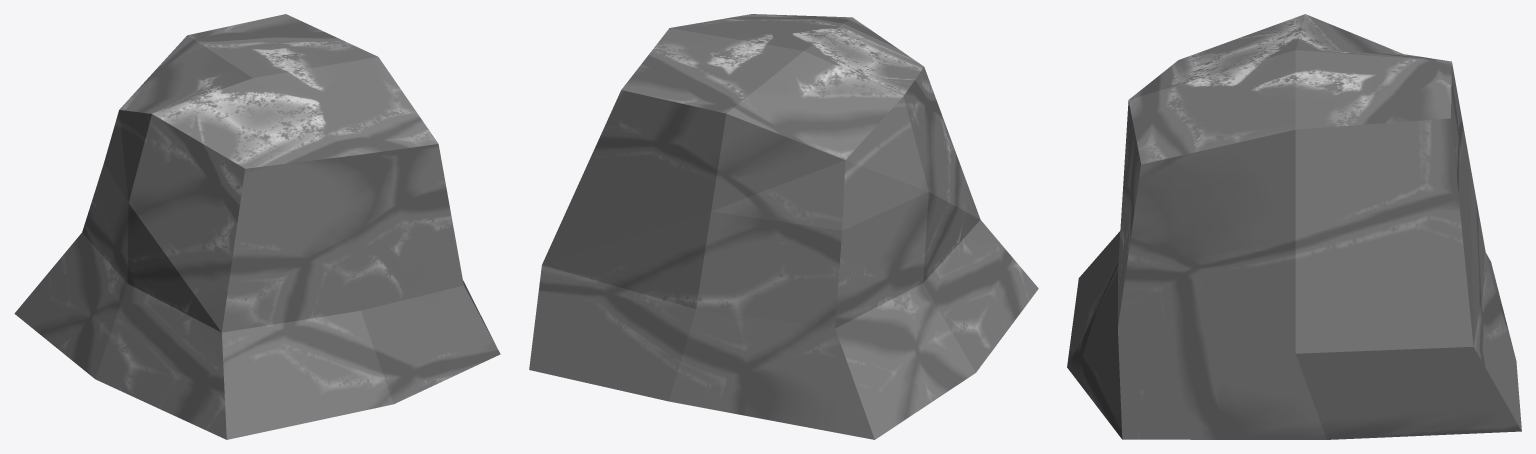
File: Rock_2.FBX
The picture shows the model from 3 angles, left to right: view 1: azimuth 30°, elevation 25°; view 2: azimuth 150°, elevation 25°; view 3: azimuth 270°, elevation 25°; orthographic projection. The views are drawn at different scales.
Parts seen in each view (by area): view 1: Box004; view 2: Box004; view 3: Box004.
Part boxes in pixels (left/top/right/bottom): Box004: left=14, top=14, right=500, bottom=439; Box004: left=529, top=14, right=1038, bottom=439; Box004: left=1067, top=14, right=1521, bottom=439.
Size of the model in its own units: 12.35 by 9.17 by 12.79.
